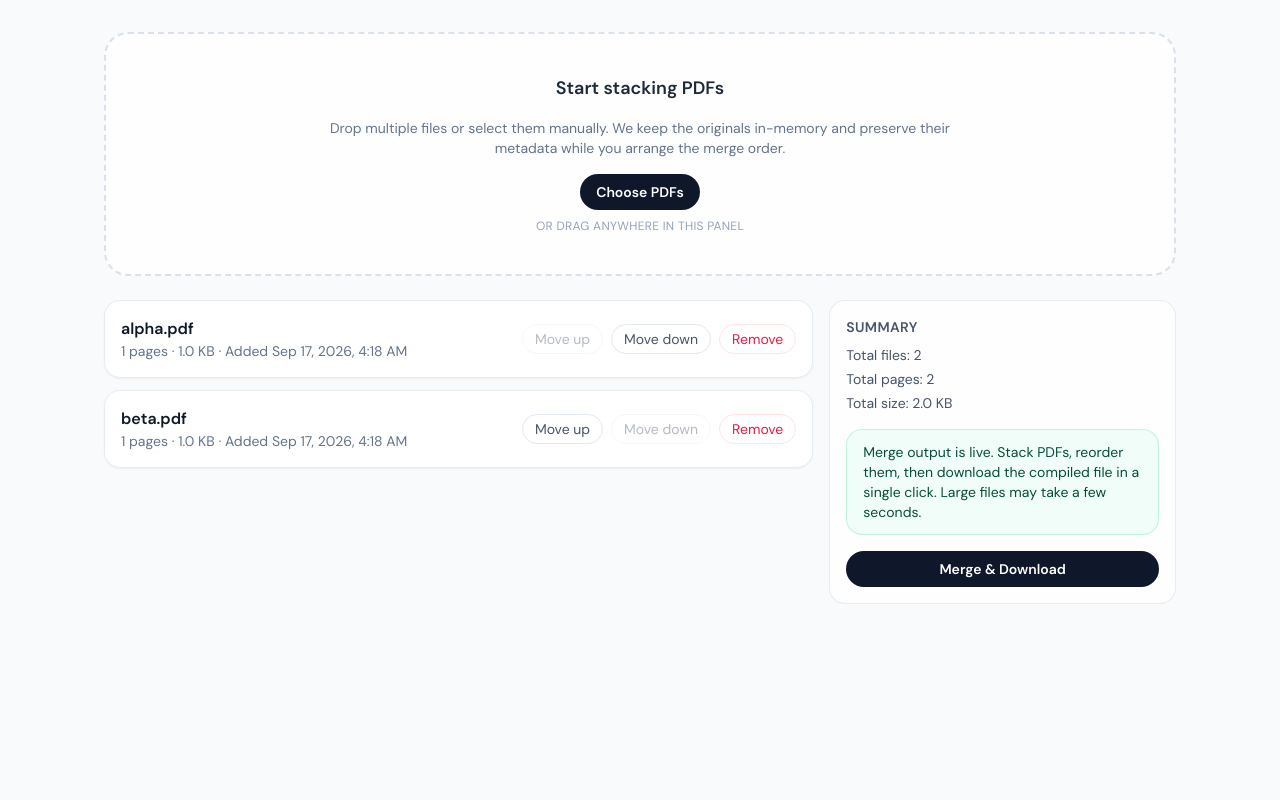
Scenario: MergeToolPage › merges stacked PDFs when requested
What coordinates should you click on to do the following:
click the button "Merge & Download"
I would click on:
 (1003, 569)
Its box is [846,551,1159,587].
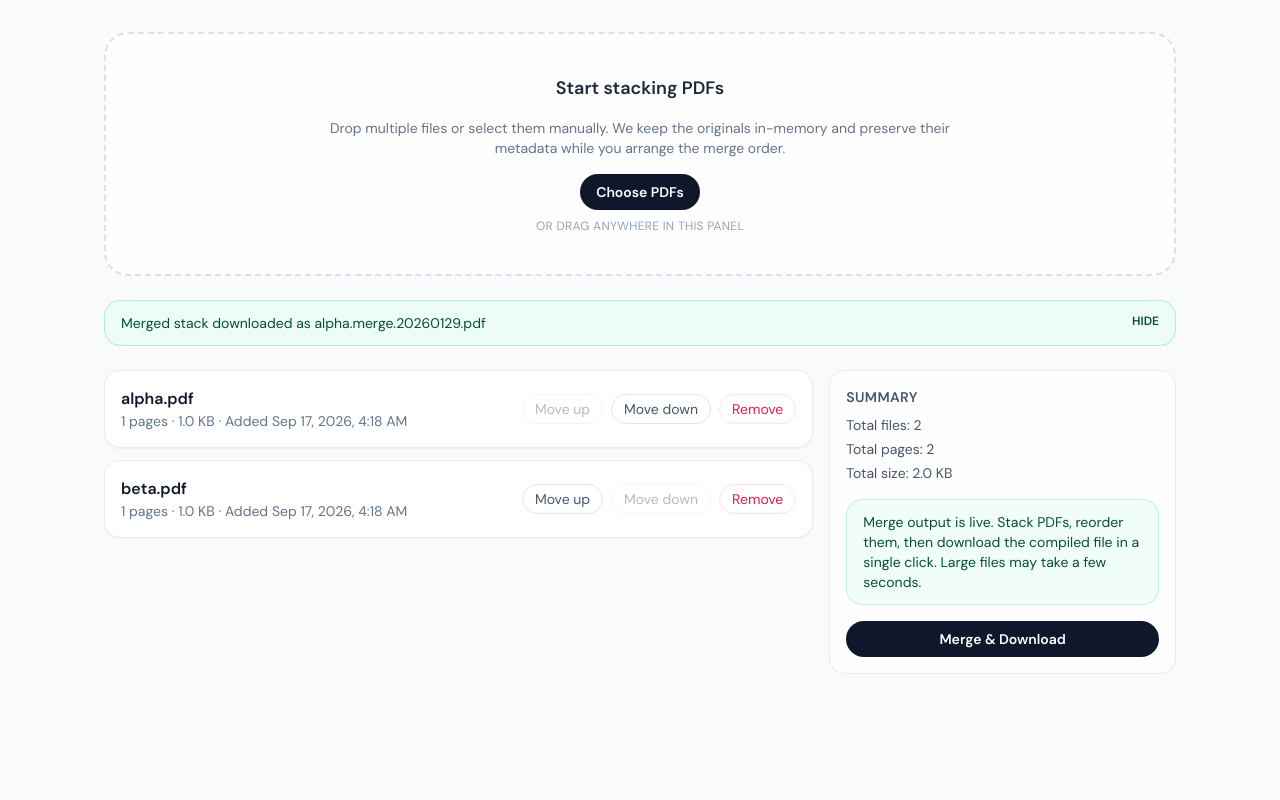
Check: the text "Merged stack downloaded as alpha.merge.20260129.pdf" is shown, box [121,313,486,333]
